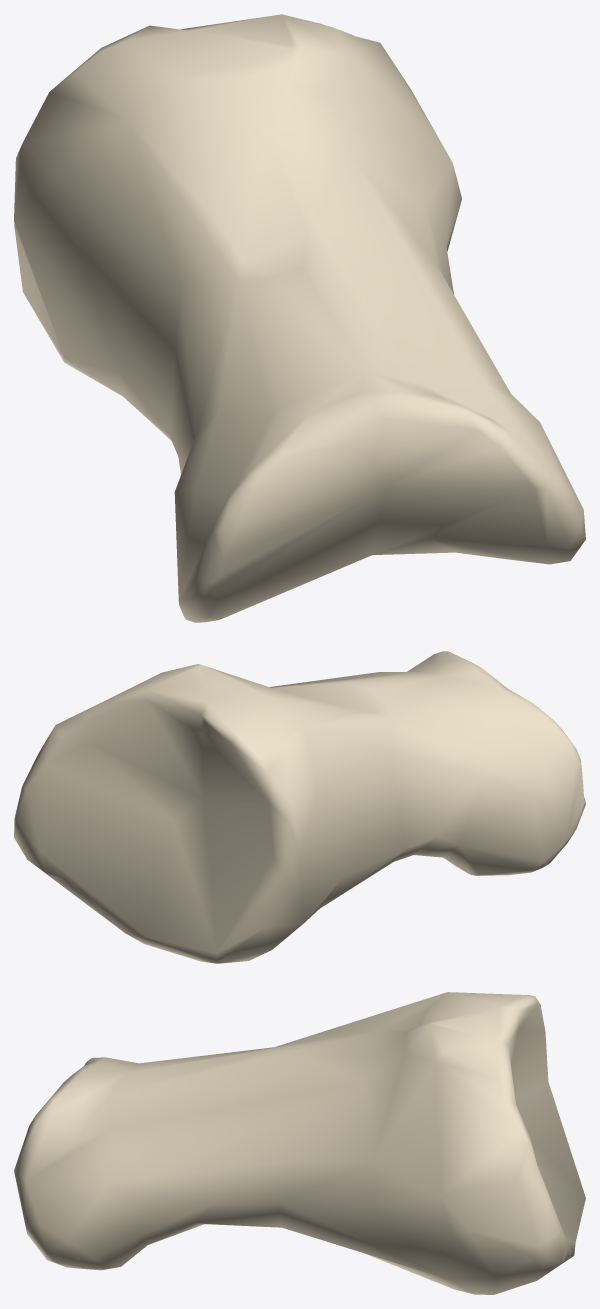
The model's file is proximal-phalanx-of-first-finger-of-foot-r.glb.
3 views of the same model, one above another, from view 1: azimuth 30°, elevation 25°; view 2: azimuth 150°, elevation 25°; view 3: azimuth 270°, elevation 25° (orthographic). The views are drawn at different scales.
Parts seen in each view (by area): view 1: Proximal phalanx of first finger of foot.r; view 2: Proximal phalanx of first finger of foot.r; view 3: Proximal phalanx of first finger of foot.r.
Part boxes in pixels (x1,y1,x2,y2): Proximal phalanx of first finger of foot.r: [14, 14, 585, 622]; Proximal phalanx of first finger of foot.r: [14, 651, 585, 963]; Proximal phalanx of first finger of foot.r: [14, 992, 585, 1294].
Bounding box in the file's own units: 0.0261 × 0.0177 × 0.0345.
